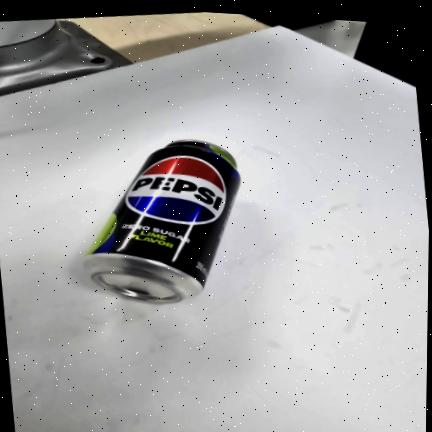can_pepsi_zero: (84, 140, 241, 304)
